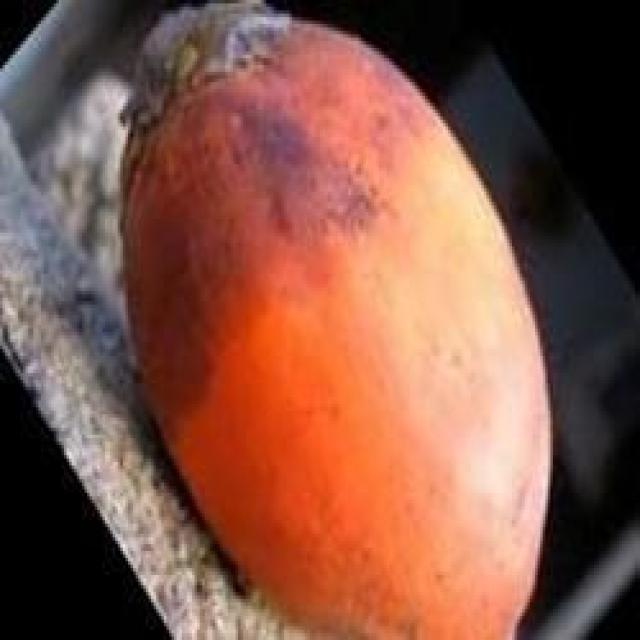good: (113, 0, 556, 637)
